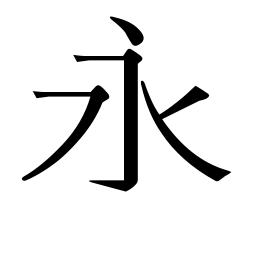D: (107, 13, 145, 46)
HSZ: (109, 47, 145, 76)
Hs: (71, 50, 100, 66)
Ne: (204, 158, 235, 186)
PNc: (147, 102, 170, 137)
PZe: (20, 164, 42, 184)
Ps: (182, 81, 213, 106)
SG: (86, 165, 139, 196)
Sm: (119, 110, 141, 139)
TPZ: (77, 83, 111, 127)
Ts: (30, 87, 54, 102)
